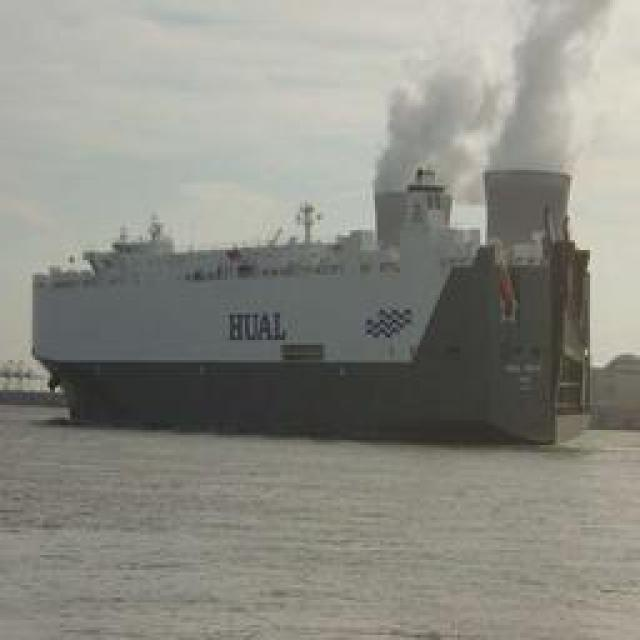Ship: (33, 148, 611, 460)
